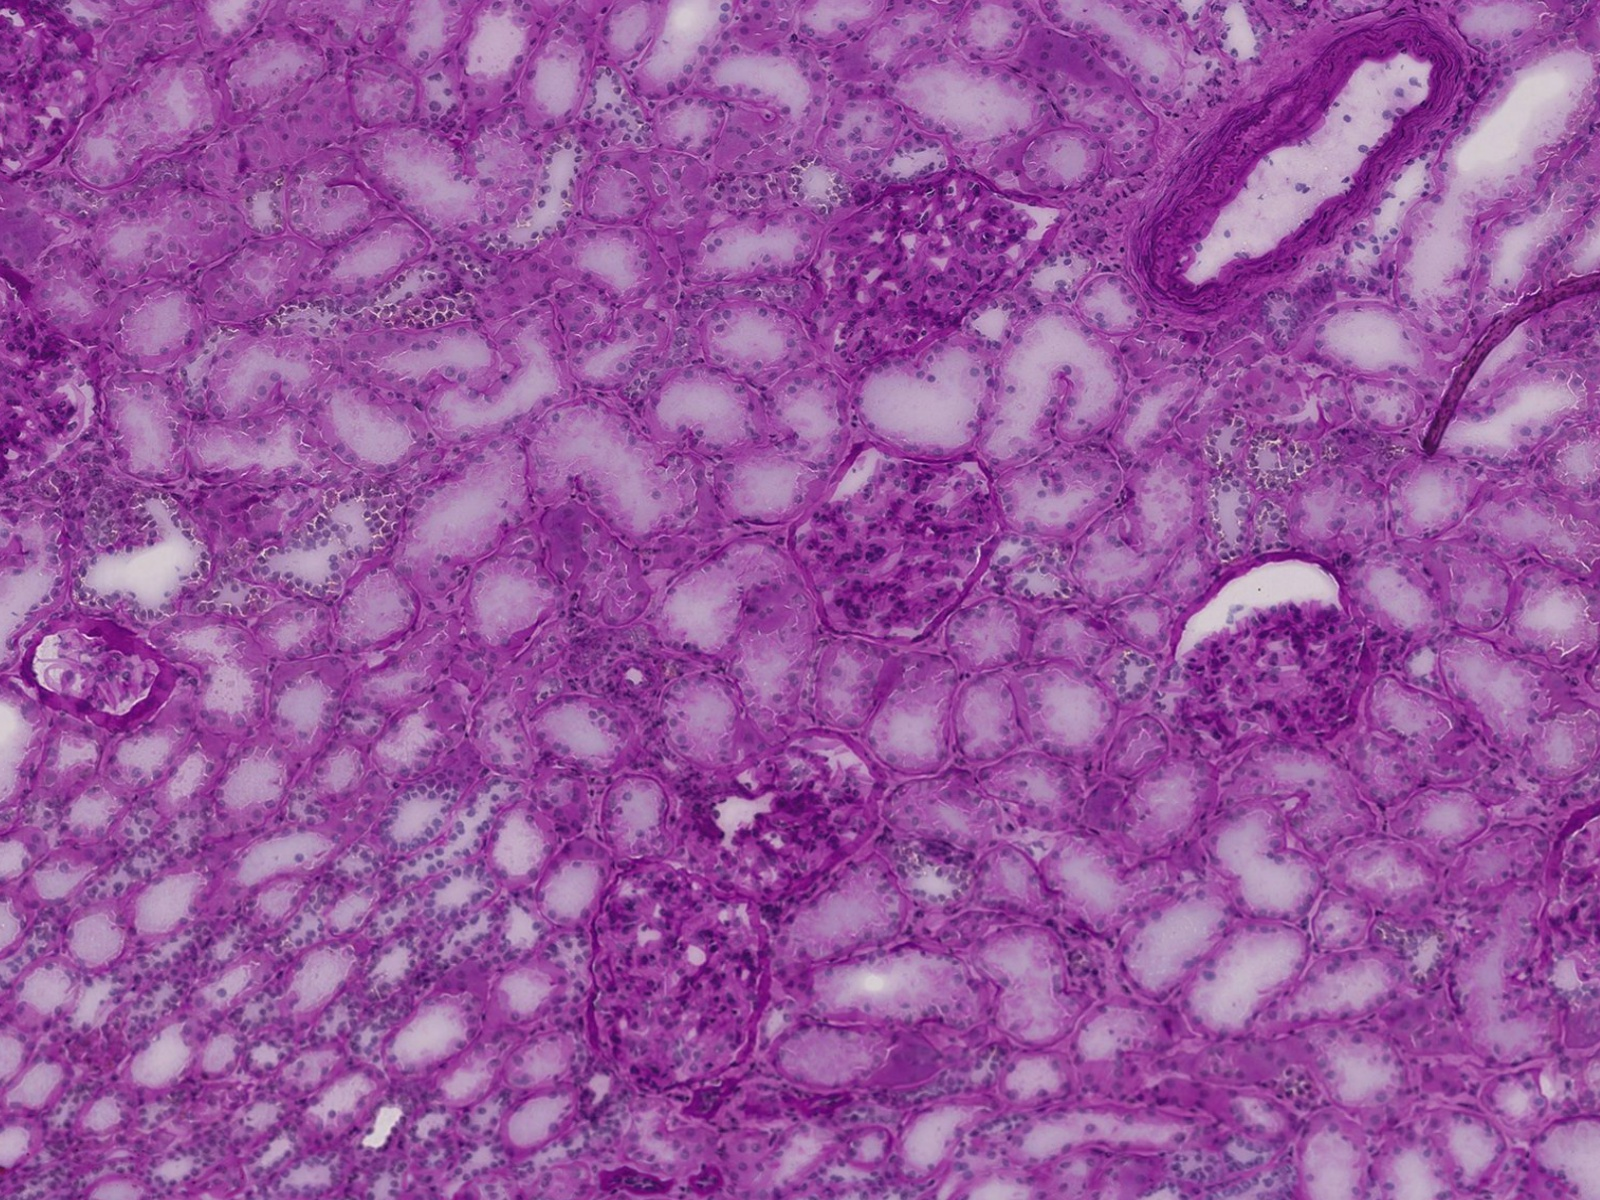Glomeruli: (580, 855, 774, 1095), (786, 441, 1004, 652), (818, 164, 1062, 349), (1168, 555, 1364, 753), (711, 726, 889, 914), (1, 261, 107, 485), (4, 3, 105, 185), (26, 611, 180, 720)
